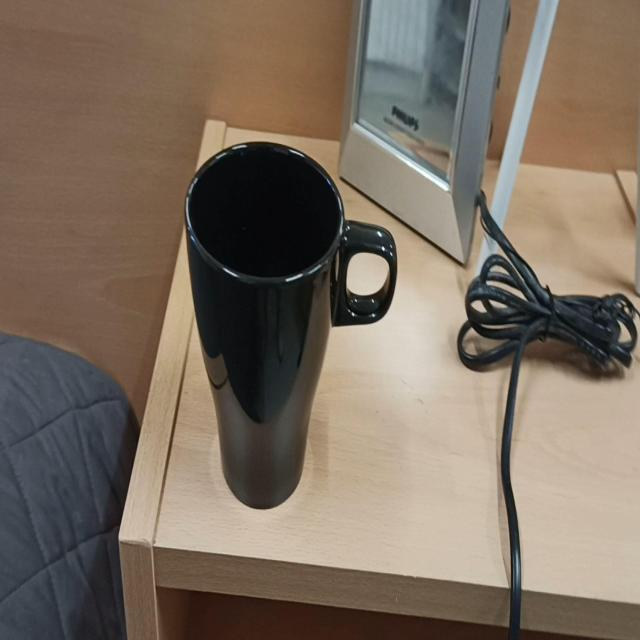cup: (178, 126, 402, 557)
